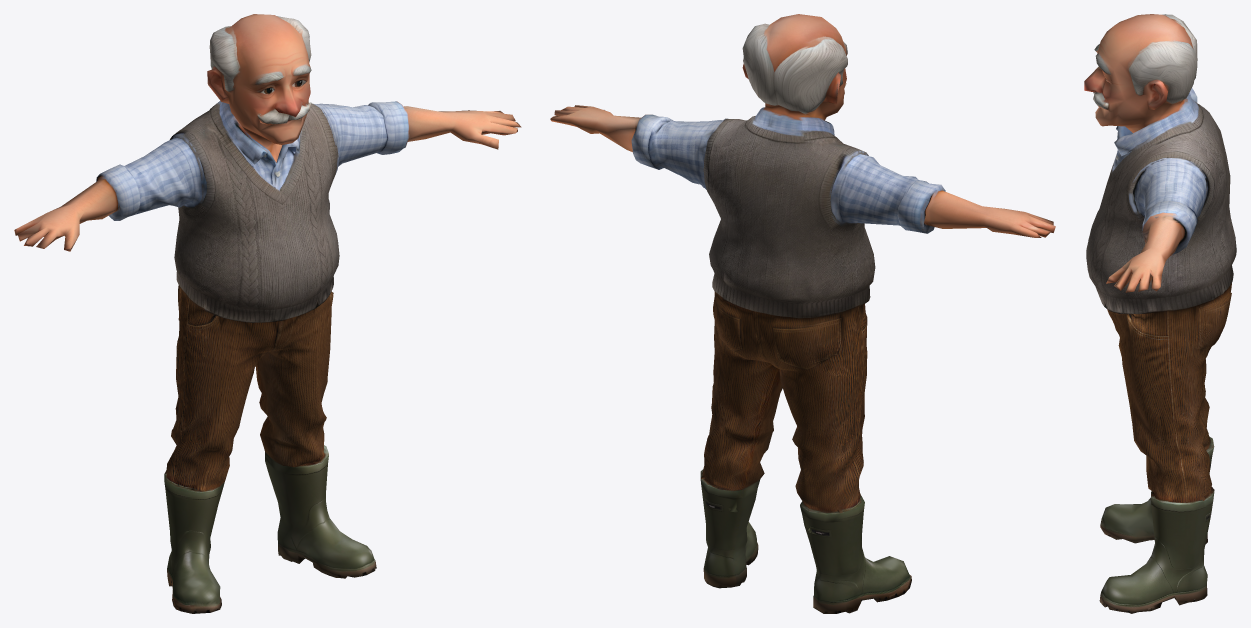
The model's file is marcel.glb.
3 views of the same model, side by side, from view 1: azimuth 30°, elevation 25°; view 2: azimuth 150°, elevation 25°; view 3: azimuth 270°, elevation 25° (orthographic).
Visible parts, largest first — view 1: tripo_mesh_e71eb125_42f6_4814_a743_8484cd5f01f2; view 2: tripo_mesh_e71eb125_42f6_4814_a743_8484cd5f01f2; view 3: tripo_mesh_e71eb125_42f6_4814_a743_8484cd5f01f2.
Boxes of the visible parts, x1,y1,x2,y2 form: tripo_mesh_e71eb125_42f6_4814_a743_8484cd5f01f2: (14, 14, 521, 613); tripo_mesh_e71eb125_42f6_4814_a743_8484cd5f01f2: (550, 14, 1055, 613); tripo_mesh_e71eb125_42f6_4814_a743_8484cd5f01f2: (1084, 14, 1236, 613).
Size of the model in its own units: 0.9031 by 0.9799 by 0.2453.
Materials: 1 (1 with a texture image).
